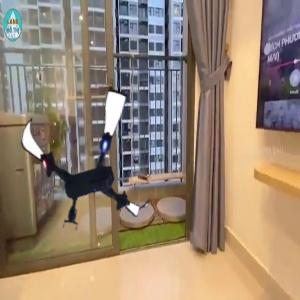drone: (10, 85, 161, 236)
